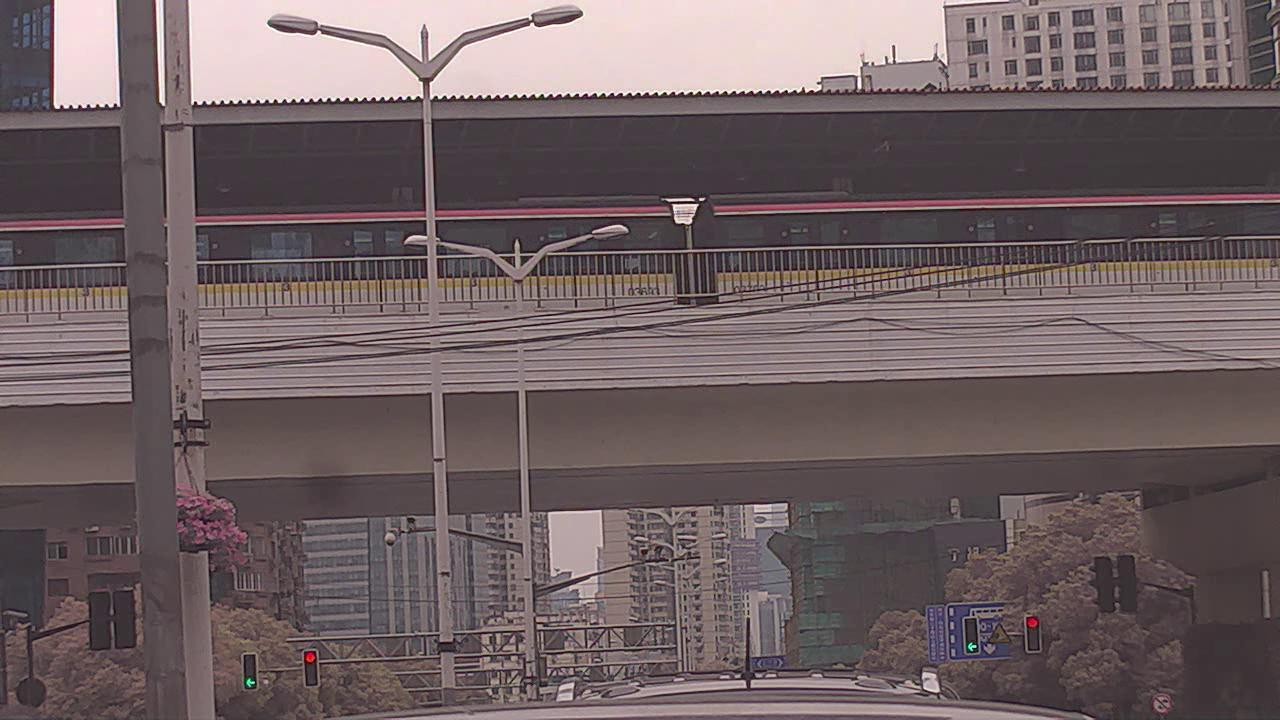traffic_light: (962, 616, 980, 658), (1024, 616, 1043, 655), (303, 650, 321, 689), (242, 649, 258, 689)
